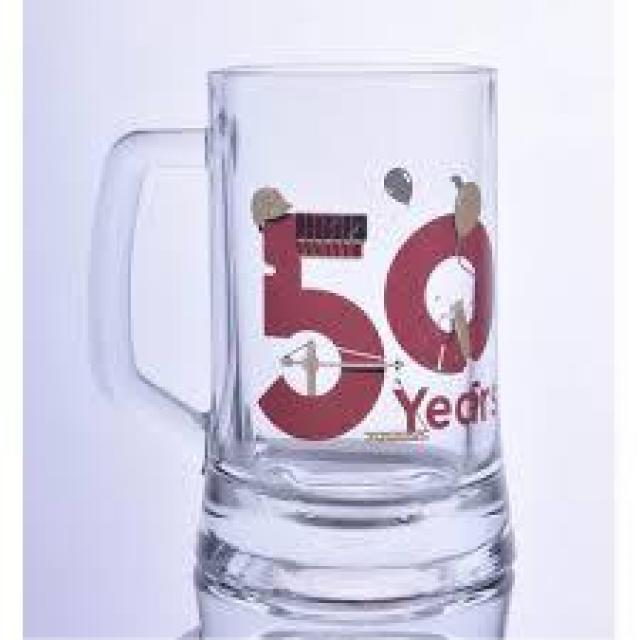non-organic waste: (87, 61, 516, 622)
